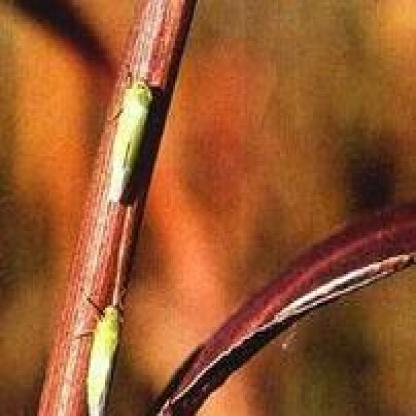Green-Leafhopper: (100, 68, 162, 215), (66, 287, 126, 416)
